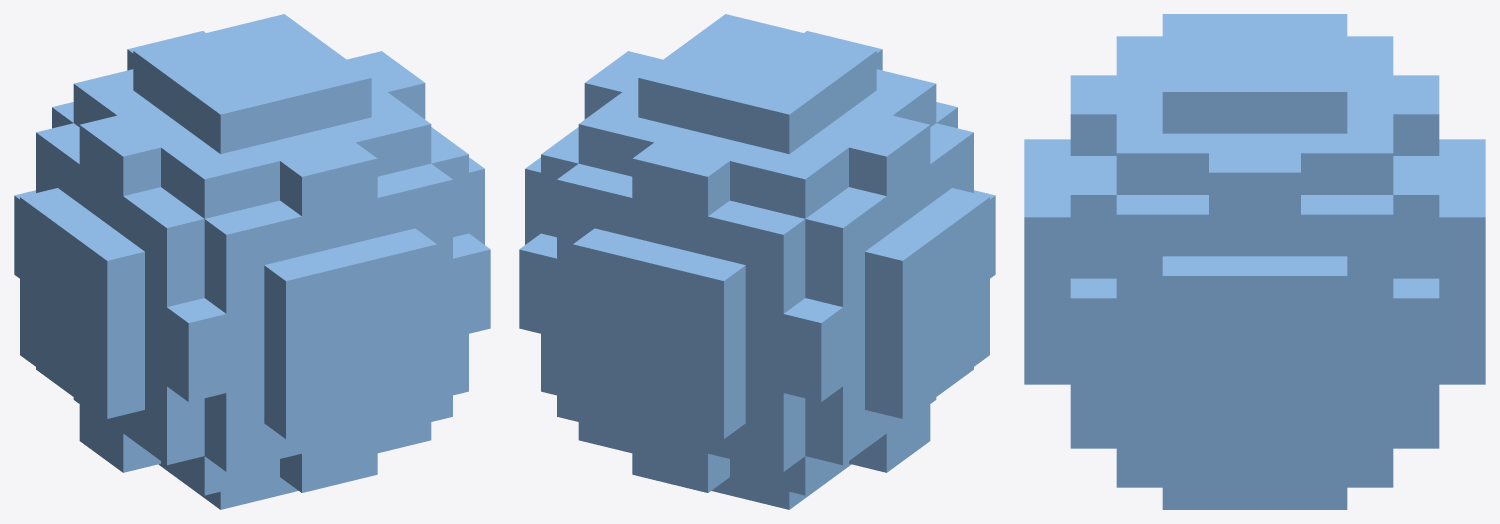
The model's file is ball.obj.
3 renders of one model, left to right at view 1: azimuth 30°, elevation 25°; view 2: azimuth 150°, elevation 25°; view 3: azimuth 270°, elevation 25°, orthographic. The views are drawn at different scales.
Size of the model in its own units: 1 by 1 by 1.
Materials: 1 (1 with a texture image).
